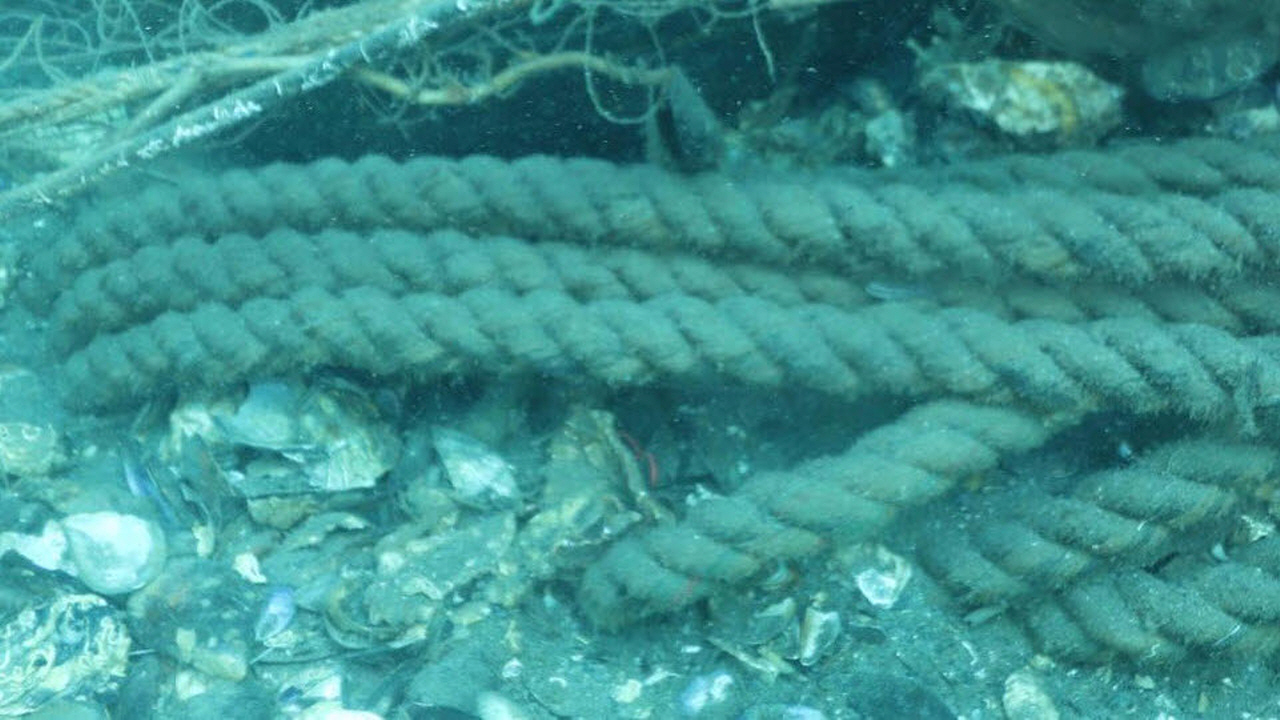bundle of ropes: (18, 118, 1278, 665), (0, 0, 663, 139)
